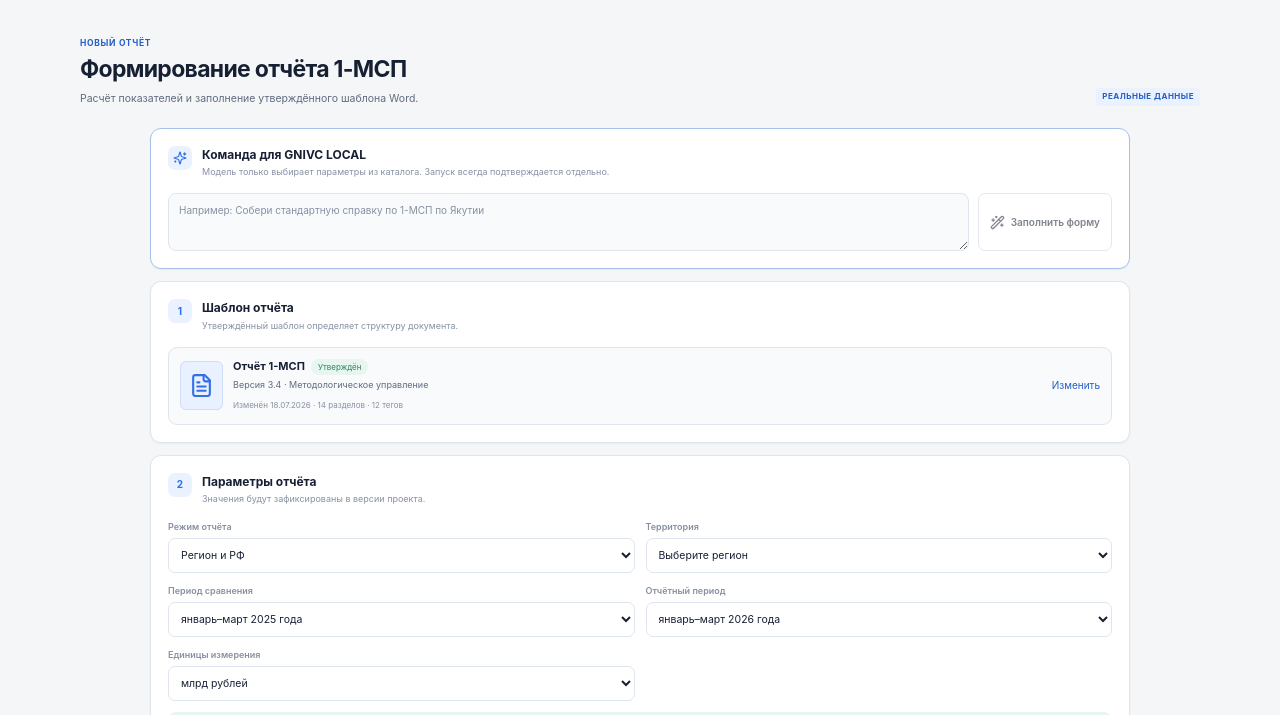
стандартная региональная справка › keeps manual selectors working when GNIVC LOCAL is unavailable
Type "Собери справку по Москве" into the text box named "Команда стандартной справки" at (568, 222), box [168, 193, 969, 251]
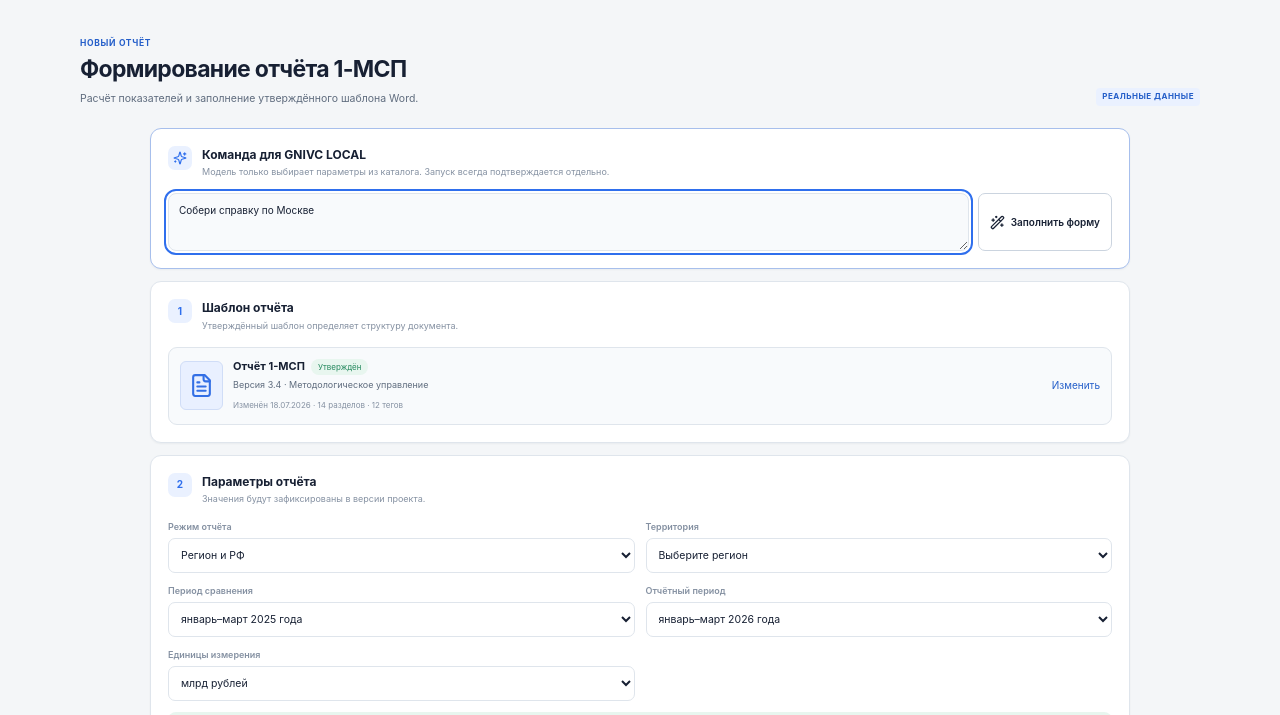
Click the button "Заполнить форму" at (1045, 222), box [978, 193, 1112, 251]
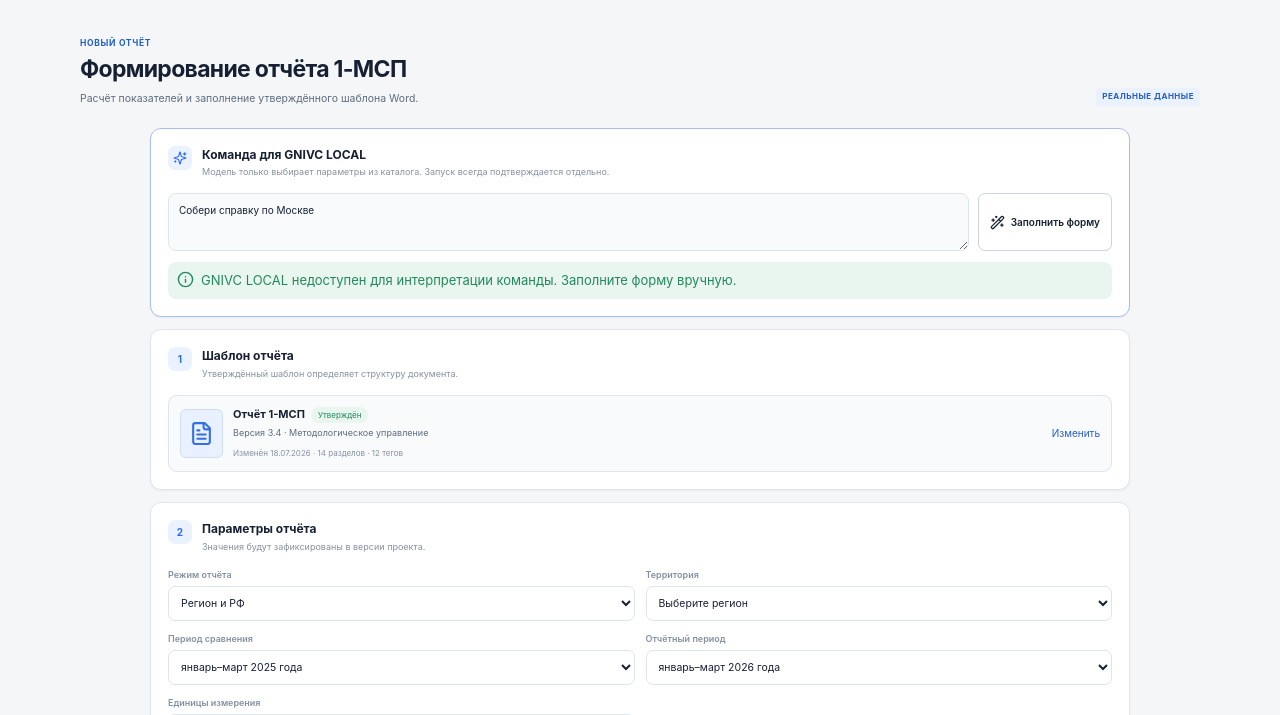
Expected: the text "Заполните форму вручную" is shown, [201, 272, 736, 288]
Select "г. Москва" in the dropdown named "Территория отчёта" at (879, 604), box [646, 586, 1112, 621]
(page scrolled)
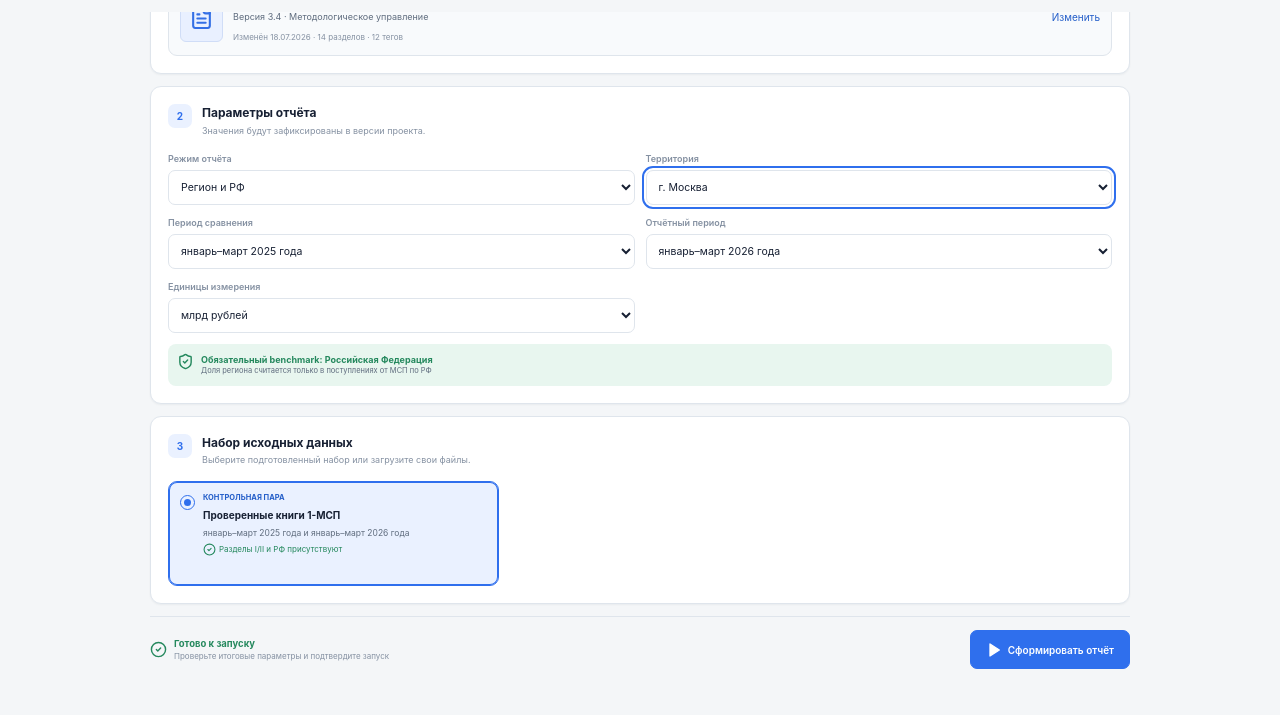
Expected: the button "Сформировать отчёт" is enabled, [970, 630, 1130, 669]
